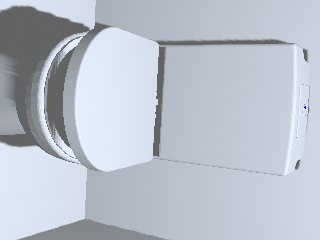lid_1: (63, 26, 159, 171)
